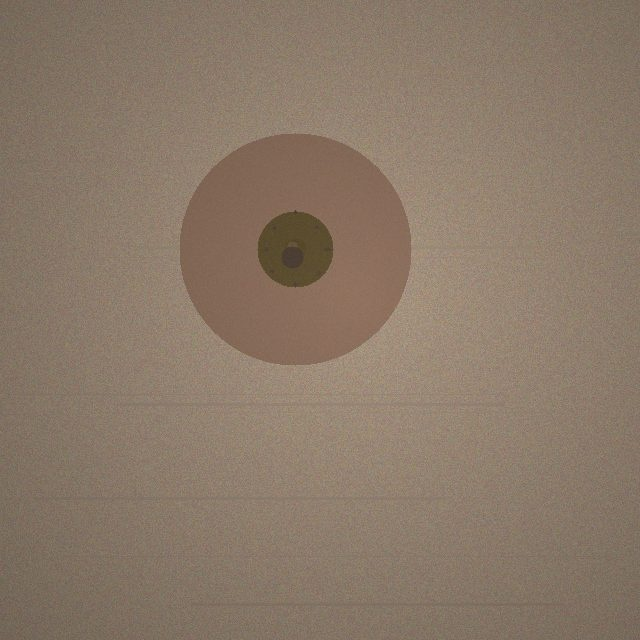cold_weld: (179, 133, 411, 365)
